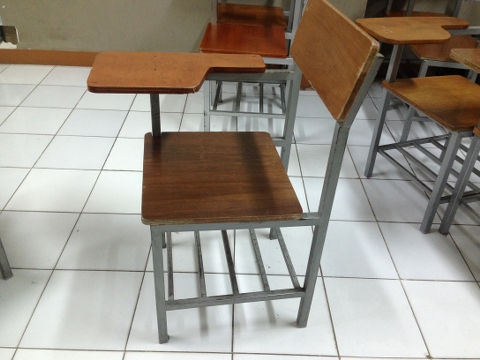kursi: (86, 1, 383, 343)
